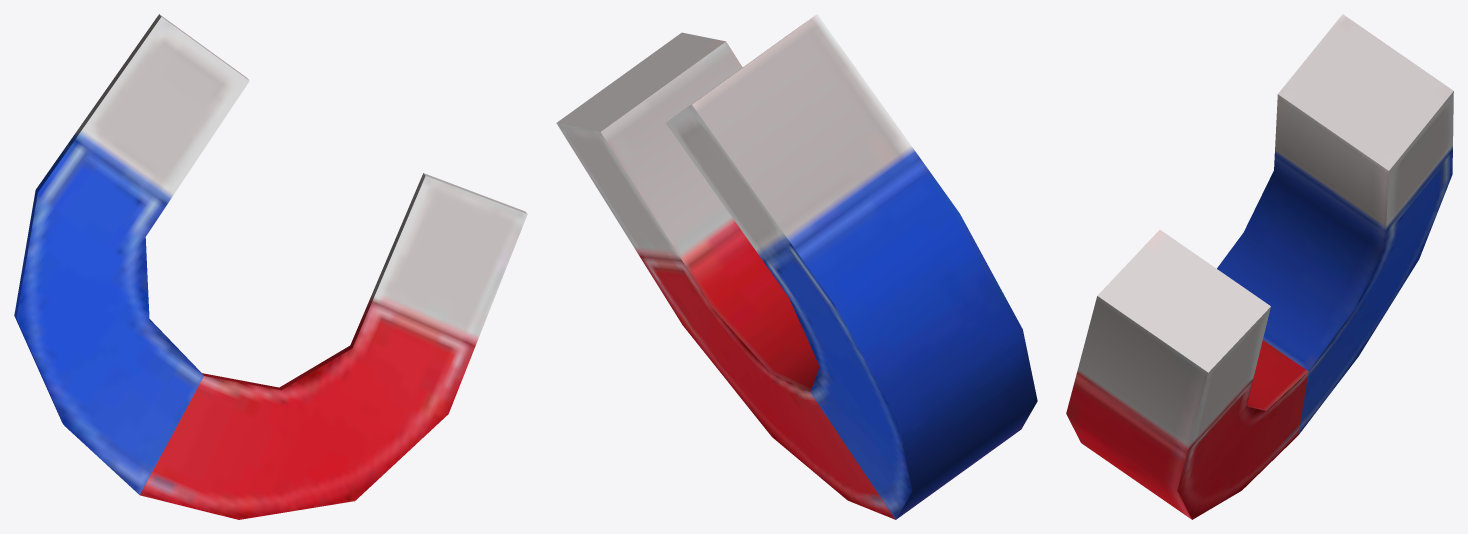
File: ITEM_MAGNET.fbx
3 renders of one model, left to right at view 1: azimuth 30°, elevation 25°; view 2: azimuth 150°, elevation 25°; view 3: azimuth 270°, elevation 25°, orthographic. The views are drawn at different scales.
Parts seen in each view (by area): view 1: ITEM_MAGNET; view 2: ITEM_MAGNET; view 3: ITEM_MAGNET.
Part boxes in pixels (box(x1,y1,x2,y2)): ITEM_MAGNET: box(14, 14, 527, 519); ITEM_MAGNET: box(556, 14, 1037, 519); ITEM_MAGNET: box(1066, 14, 1453, 519).
Size of the model in its own units: 0.9604 by 0.9384 by 0.7093.
Materials: 1 (1 with a texture image).
